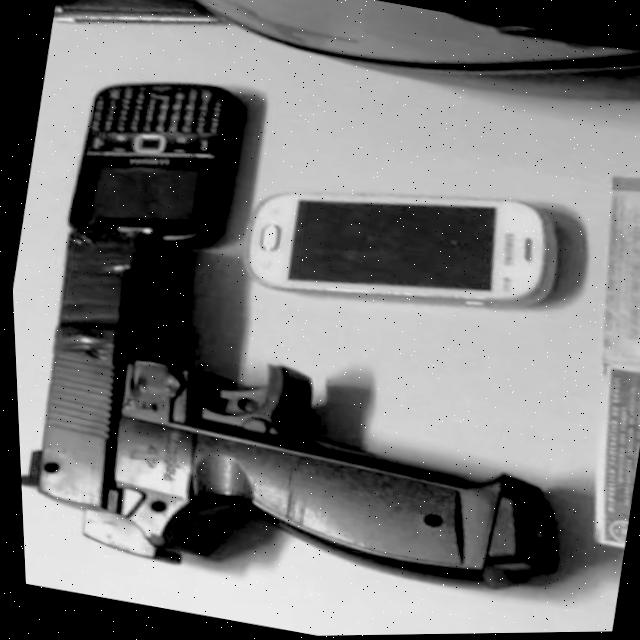pistol: (8, 209, 610, 640)
